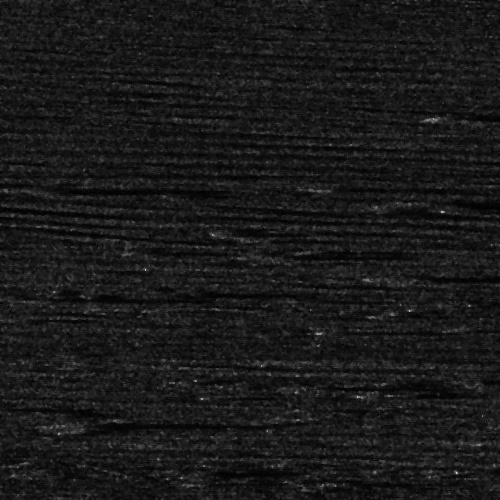object: (280, 476, 385, 487), (41, 416, 104, 427), (0, 405, 28, 410)
shadow: (73, 416, 267, 427), (333, 476, 462, 487), (7, 405, 120, 410), (0, 498, 98, 500)
